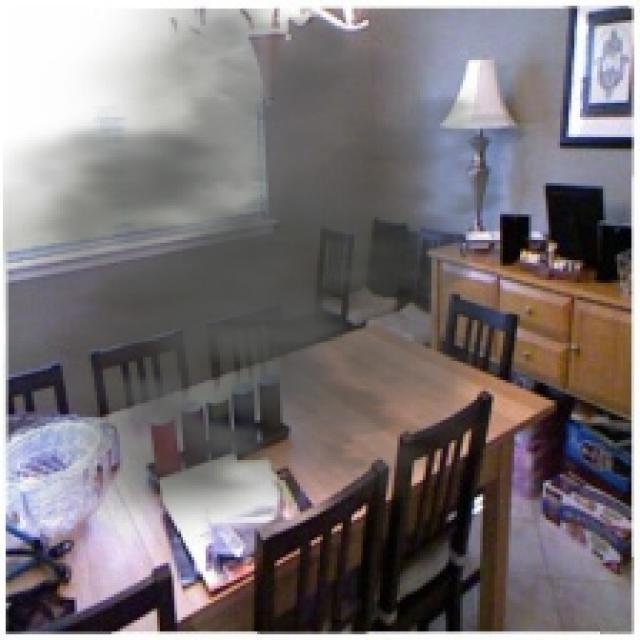Smoke: (2, 9, 572, 548)
